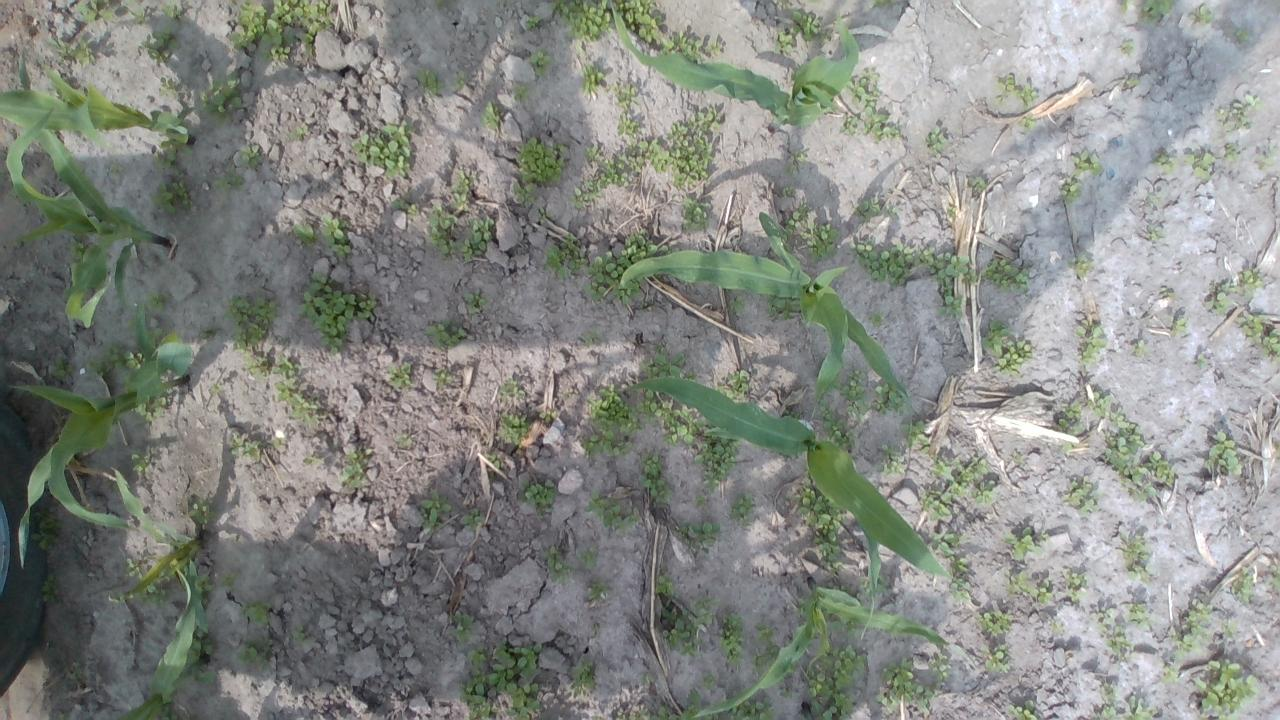Maize: (621, 212, 915, 444), (622, 373, 936, 573), (0, 304, 202, 570), (687, 576, 954, 720), (0, 110, 172, 326), (602, 0, 862, 130), (0, 47, 197, 147), (112, 567, 206, 720), (104, 467, 202, 606), (800, 702, 824, 720)
Weeds: (227, 0, 336, 65), (462, 642, 544, 720), (298, 273, 376, 355), (580, 384, 642, 459), (808, 644, 866, 720), (670, 104, 721, 190), (634, 388, 705, 446), (846, 68, 900, 144), (1194, 656, 1257, 720), (352, 120, 418, 178), (661, 593, 718, 658), (799, 467, 845, 542), (152, 140, 192, 218), (227, 290, 279, 350), (980, 317, 1030, 378), (855, 240, 916, 287), (572, 156, 626, 209), (199, 71, 247, 128), (514, 136, 568, 186), (693, 438, 741, 494), (551, 0, 614, 42), (1170, 602, 1214, 662), (1102, 414, 1146, 472), (586, 492, 640, 536), (1092, 604, 1134, 660), (1128, 450, 1176, 499), (614, 0, 666, 43), (932, 458, 988, 496), (583, 251, 623, 304), (85, 337, 143, 373), (637, 446, 673, 503), (918, 248, 976, 283), (544, 234, 588, 280), (626, 138, 672, 182), (276, 377, 320, 423), (815, 399, 856, 448), (1116, 532, 1154, 584), (1002, 569, 1054, 606), (979, 260, 1031, 296), (834, 370, 869, 420), (800, 224, 840, 266), (134, 566, 178, 604), (878, 659, 912, 708), (640, 342, 686, 378), (621, 234, 671, 267), (425, 207, 456, 260), (1205, 431, 1242, 475), (1076, 316, 1110, 363), (336, 445, 372, 489), (1006, 526, 1050, 562), (48, 35, 99, 66), (720, 614, 748, 666), (418, 487, 451, 531), (1063, 480, 1101, 518), (319, 218, 353, 260), (658, 32, 702, 64), (678, 520, 722, 552), (422, 318, 468, 348), (144, 25, 178, 64), (516, 480, 556, 513), (542, 544, 574, 584), (678, 196, 712, 233), (496, 411, 530, 447), (1214, 103, 1251, 136), (870, 384, 908, 416), (1230, 562, 1258, 604), (29, 518, 61, 554), (730, 695, 776, 720), (1052, 401, 1084, 436), (446, 609, 477, 645), (918, 488, 952, 520), (468, 217, 495, 256), (720, 368, 750, 402), (1205, 282, 1235, 316), (792, 10, 822, 44), (572, 654, 596, 696), (449, 166, 472, 209), (767, 294, 802, 322), (829, 614, 866, 640), (874, 442, 904, 474), (1064, 568, 1090, 604), (228, 430, 264, 456), (133, 397, 170, 422), (950, 557, 971, 601), (1186, 152, 1216, 182), (976, 611, 1012, 636), (1070, 150, 1102, 178), (578, 62, 604, 96), (238, 600, 272, 626), (78, 0, 116, 23), (414, 65, 444, 94), (186, 656, 215, 686), (816, 542, 844, 573), (1138, 0, 1174, 24), (729, 492, 754, 526), (1236, 310, 1264, 340), (1128, 600, 1157, 628), (901, 419, 929, 447), (984, 646, 1012, 674), (188, 500, 216, 528), (386, 362, 414, 390), (930, 532, 960, 558), (1086, 391, 1116, 417), (857, 574, 887, 600), (191, 621, 213, 656), (236, 639, 264, 666), (923, 126, 948, 156), (939, 285, 964, 315), (616, 278, 644, 304), (782, 150, 808, 178), (1126, 695, 1154, 720), (462, 286, 487, 314), (784, 207, 809, 234), (855, 197, 880, 224), (271, 355, 299, 379), (1059, 176, 1082, 205), (914, 683, 936, 713), (1008, 700, 1041, 720), (478, 99, 499, 130), (1066, 253, 1092, 278), (292, 223, 318, 248), (678, 705, 720, 720), (993, 74, 1013, 105), (530, 48, 552, 76), (1238, 269, 1266, 291), (498, 378, 526, 400), (930, 652, 950, 682), (580, 542, 600, 572), (67, 236, 90, 262), (508, 182, 534, 205), (237, 144, 260, 170), (616, 703, 651, 720), (212, 173, 241, 193), (838, 112, 862, 136), (1264, 558, 1280, 594), (1015, 84, 1039, 108), (156, 76, 182, 98), (41, 575, 60, 605), (1262, 329, 1280, 360), (144, 289, 168, 312), (1190, 4, 1216, 25), (774, 30, 795, 56), (390, 195, 418, 214), (1256, 148, 1278, 172), (194, 572, 218, 594), (508, 80, 530, 103), (160, 1, 182, 23), (247, 355, 270, 376), (127, 447, 144, 473), (616, 114, 638, 134), (614, 86, 636, 106), (62, 659, 82, 681), (456, 240, 474, 264), (652, 703, 677, 720), (752, 620, 773, 640), (1153, 153, 1176, 171), (656, 575, 676, 595), (463, 509, 484, 528), (1160, 664, 1179, 684), (221, 571, 242, 589), (750, 655, 768, 676), (766, 640, 780, 666), (1222, 142, 1241, 161), (1219, 620, 1239, 638), (588, 582, 608, 600), (123, 558, 143, 576), (976, 487, 996, 505), (51, 356, 68, 377), (582, 146, 604, 162), (148, 326, 165, 346), (1144, 225, 1165, 241), (1020, 114, 1038, 132), (394, 433, 414, 449), (1098, 706, 1120, 720), (1097, 683, 1114, 701), (582, 329, 600, 346), (1172, 316, 1187, 336), (970, 175, 987, 192), (729, 296, 746, 313), (486, 450, 502, 468), (1246, 94, 1262, 111), (704, 38, 721, 54), (290, 624, 307, 640), (540, 408, 558, 423), (290, 125, 308, 140), (1118, 40, 1134, 56), (452, 72, 466, 90), (704, 673, 718, 691), (832, 582, 850, 596), (162, 706, 180, 720), (432, 368, 451, 381), (1122, 77, 1142, 89), (778, 686, 798, 698), (129, 9, 145, 24), (1132, 339, 1146, 356), (109, 162, 126, 176), (638, 672, 656, 685), (1011, 452, 1027, 466), (868, 0, 896, 8), (688, 688, 702, 704), (784, 410, 802, 422), (692, 494, 706, 509), (870, 311, 883, 327), (885, 204, 900, 217), (781, 186, 796, 199), (1158, 286, 1174, 298), (776, 0, 793, 11), (1146, 192, 1160, 205), (526, 15, 540, 28), (1119, 0, 1132, 13), (1236, 29, 1248, 43), (537, 207, 548, 222), (208, 384, 224, 394), (54, 710, 70, 720), (1198, 354, 1208, 368), (822, 31, 832, 44), (302, 456, 318, 464), (946, 207, 956, 219), (1062, 442, 1074, 452), (590, 710, 602, 720), (534, 511, 546, 520), (686, 372, 696, 382), (434, 0, 446, 8), (201, 596, 209, 604)
